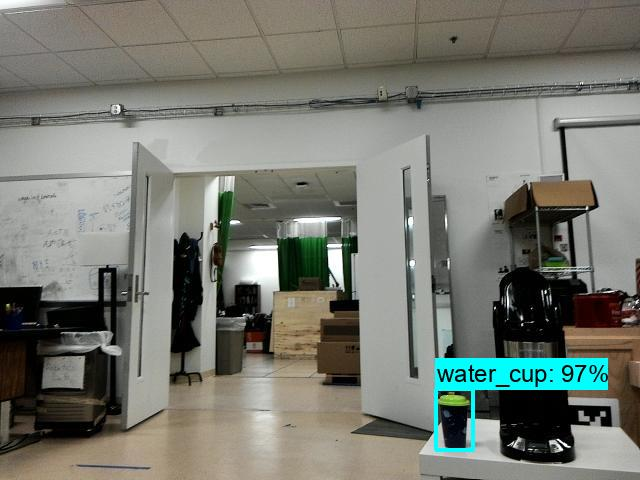water_cup: (435, 389, 473, 450)
